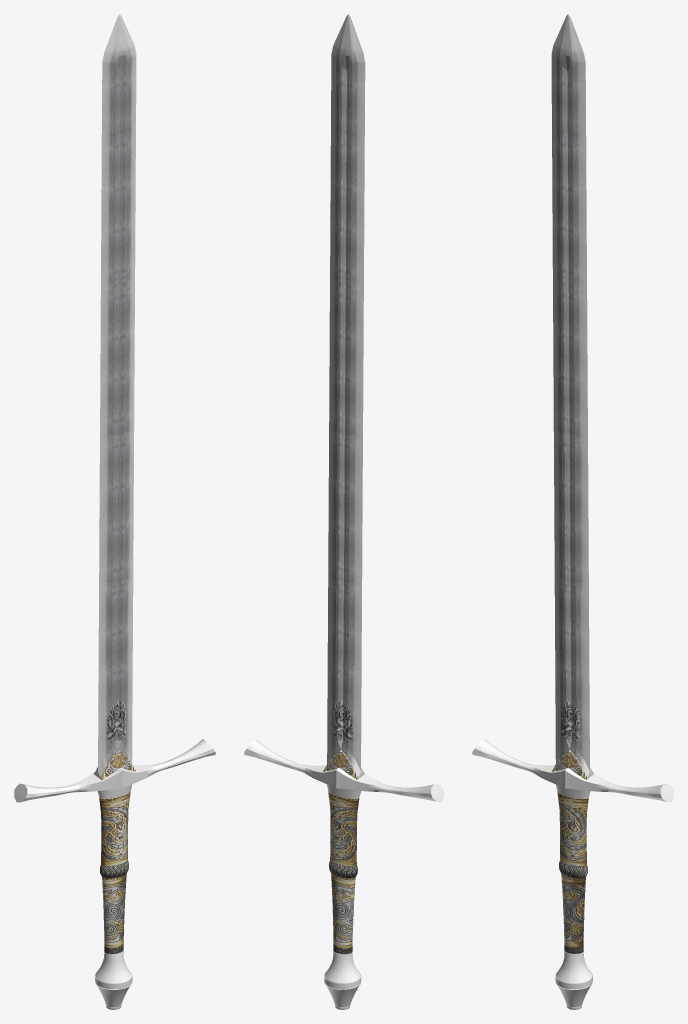
File: Long_Sword.glb
3 renders of one model, left to right at view 1: azimuth 30°, elevation 25°; view 2: azimuth 150°, elevation 25°; view 3: azimuth 330°, elevation 25°, orthographic.
Parts seen in each view (by area): view 1: Long_Sword; view 2: Long_Sword; view 3: Long_Sword.
Boxes of the visible parts, box(x1,y1,x2,y2) form: Long_Sword: box(14, 14, 215, 1009); Long_Sword: box(244, 14, 443, 1009); Long_Sword: box(472, 14, 673, 1009).
Bounding box in the file's own units: 14.04 × 68.08 × 2.33.
1 material, 1 textured.
